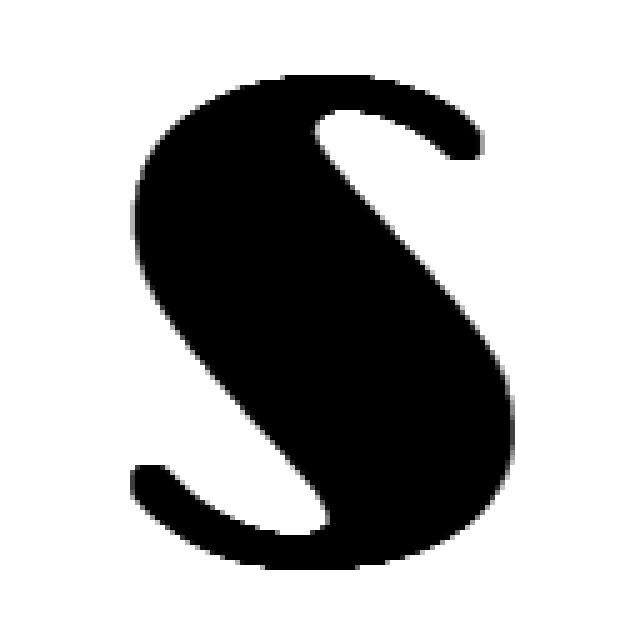S: (111, 78, 516, 570)
